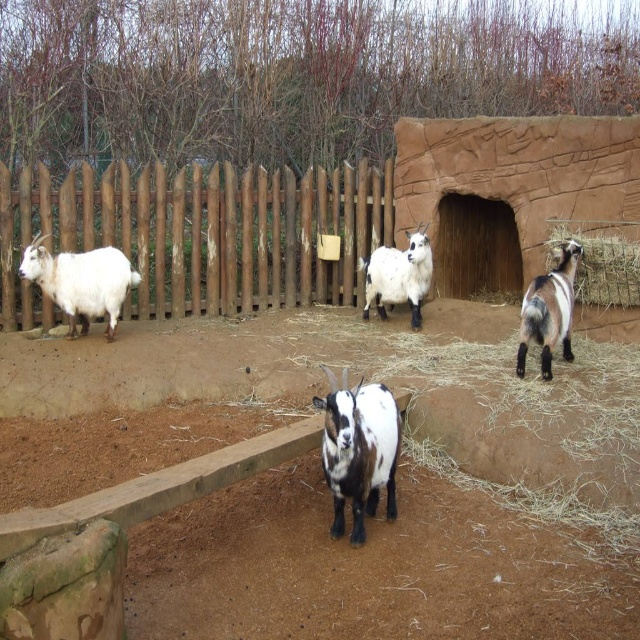Sheep: (313, 365, 402, 552), (17, 228, 143, 344), (516, 241, 586, 381), (356, 220, 435, 334)
